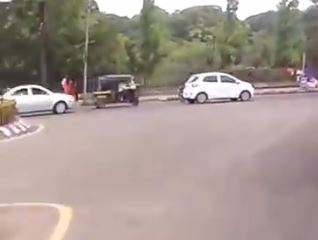autorickshaw: (93, 72, 143, 113)
car: (179, 67, 260, 110), (1, 81, 76, 125)
